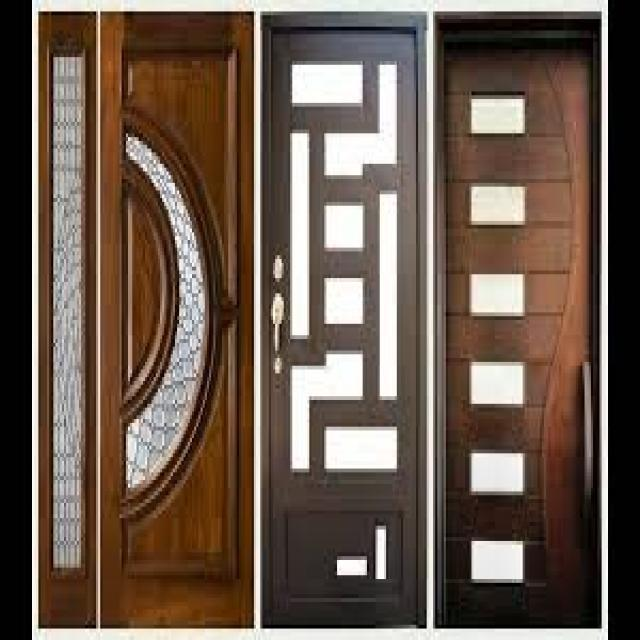door: (433, 19, 604, 633), (259, 20, 423, 627), (98, 11, 255, 630)
